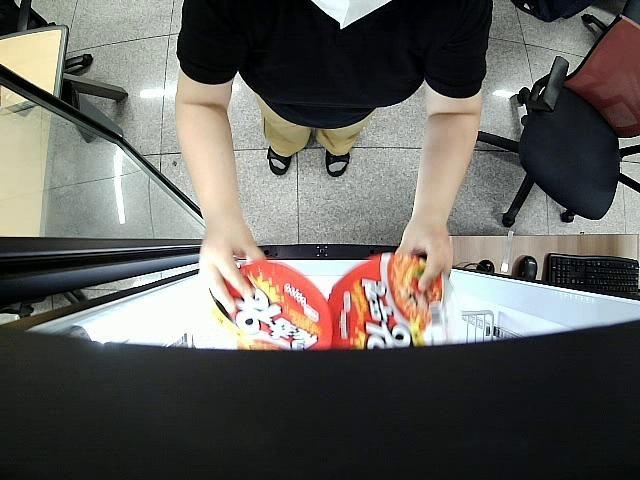10_wangTtukkeong: (198, 259, 334, 353), (336, 255, 459, 350)
